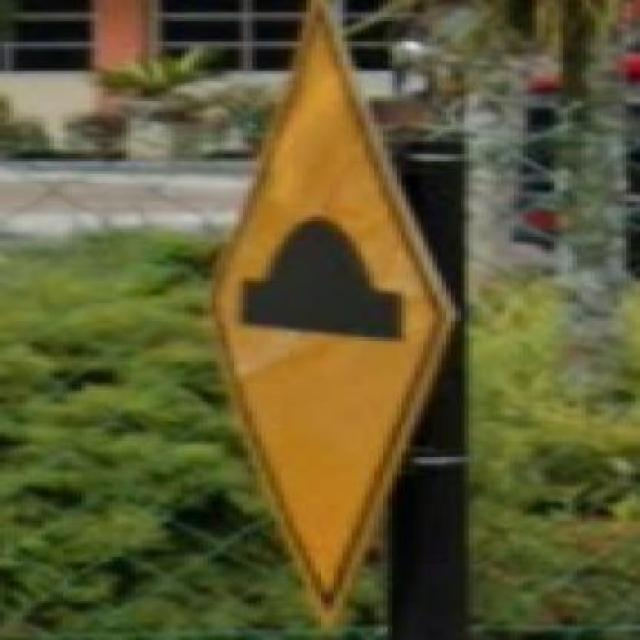Polisi Tidur: (190, 0, 473, 640)
